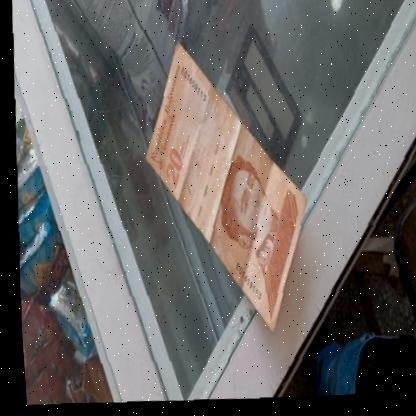twenty-front-vef: (126, 33, 320, 344)
